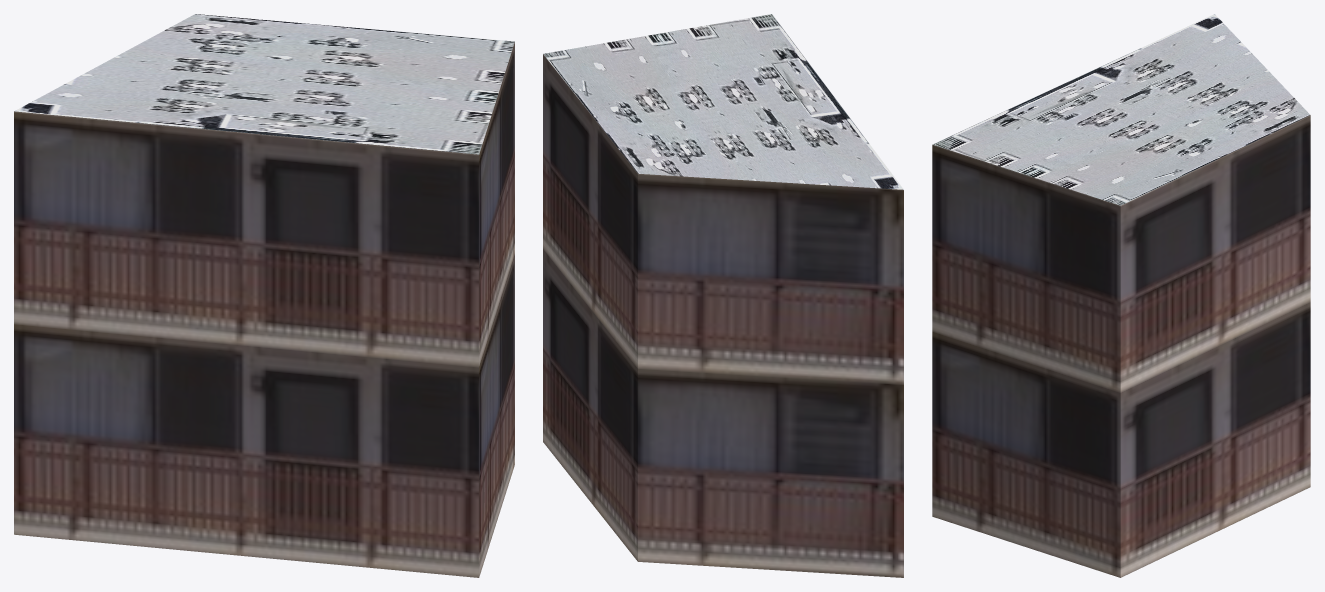
Rendered from ResTex__2456.fbx.
3 renders of one model, left to right at view 1: azimuth 30°, elevation 25°; view 2: azimuth 150°, elevation 25°; view 3: azimuth 270°, elevation 25°, orthographic. The views are drawn at different scales.
Visible parts, largest first — view 1: CityEngineMaterial_6_m, CityEngineMaterial_4_m; view 2: CityEngineMaterial_6_m, CityEngineMaterial_4_m; view 3: CityEngineMaterial_6_m, CityEngineMaterial_4_m.
Part boxes in pixels (bbox=[...]): CityEngineMaterial_6_m: bbox=[14, 42, 514, 577]; CityEngineMaterial_4_m: bbox=[15, 14, 514, 154]; CityEngineMaterial_6_m: bbox=[543, 54, 903, 577]; CityEngineMaterial_4_m: bbox=[543, 14, 903, 189]; CityEngineMaterial_6_m: bbox=[932, 115, 1310, 577]; CityEngineMaterial_4_m: bbox=[933, 14, 1309, 205].
Bounding box in the file's own units: 6.64 × 6 × 5.53.
2 materials, 2 textured.
